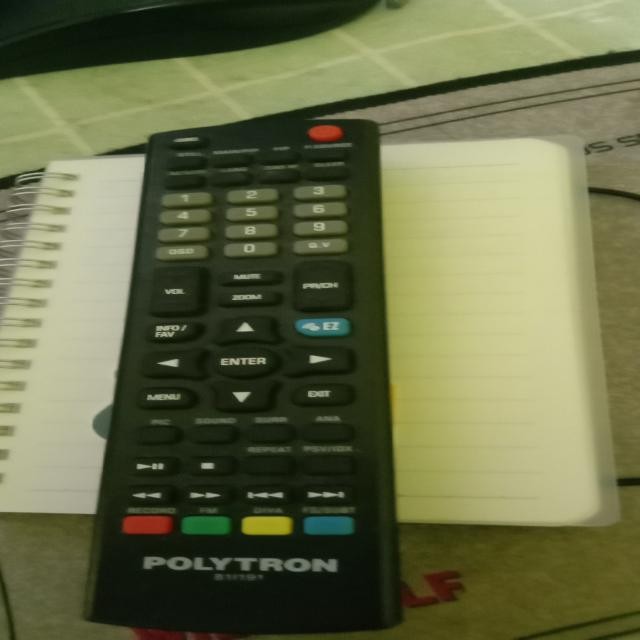remote: (79, 117, 393, 629)
